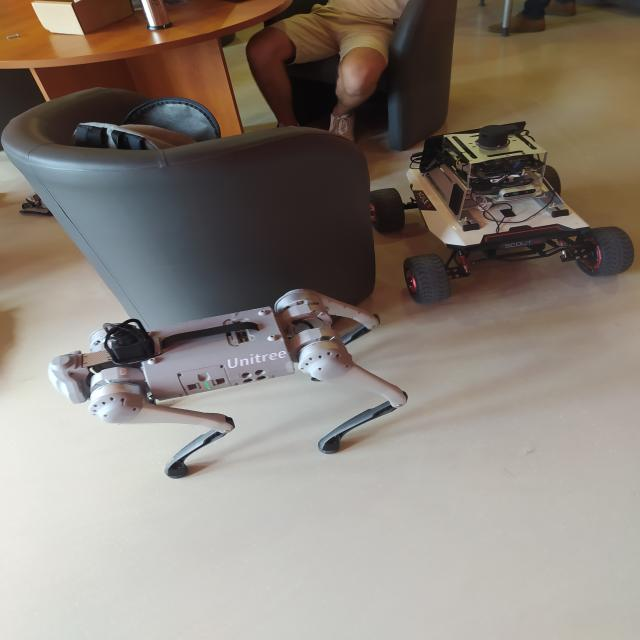unitree-go1-robot: (56, 290, 413, 486)
